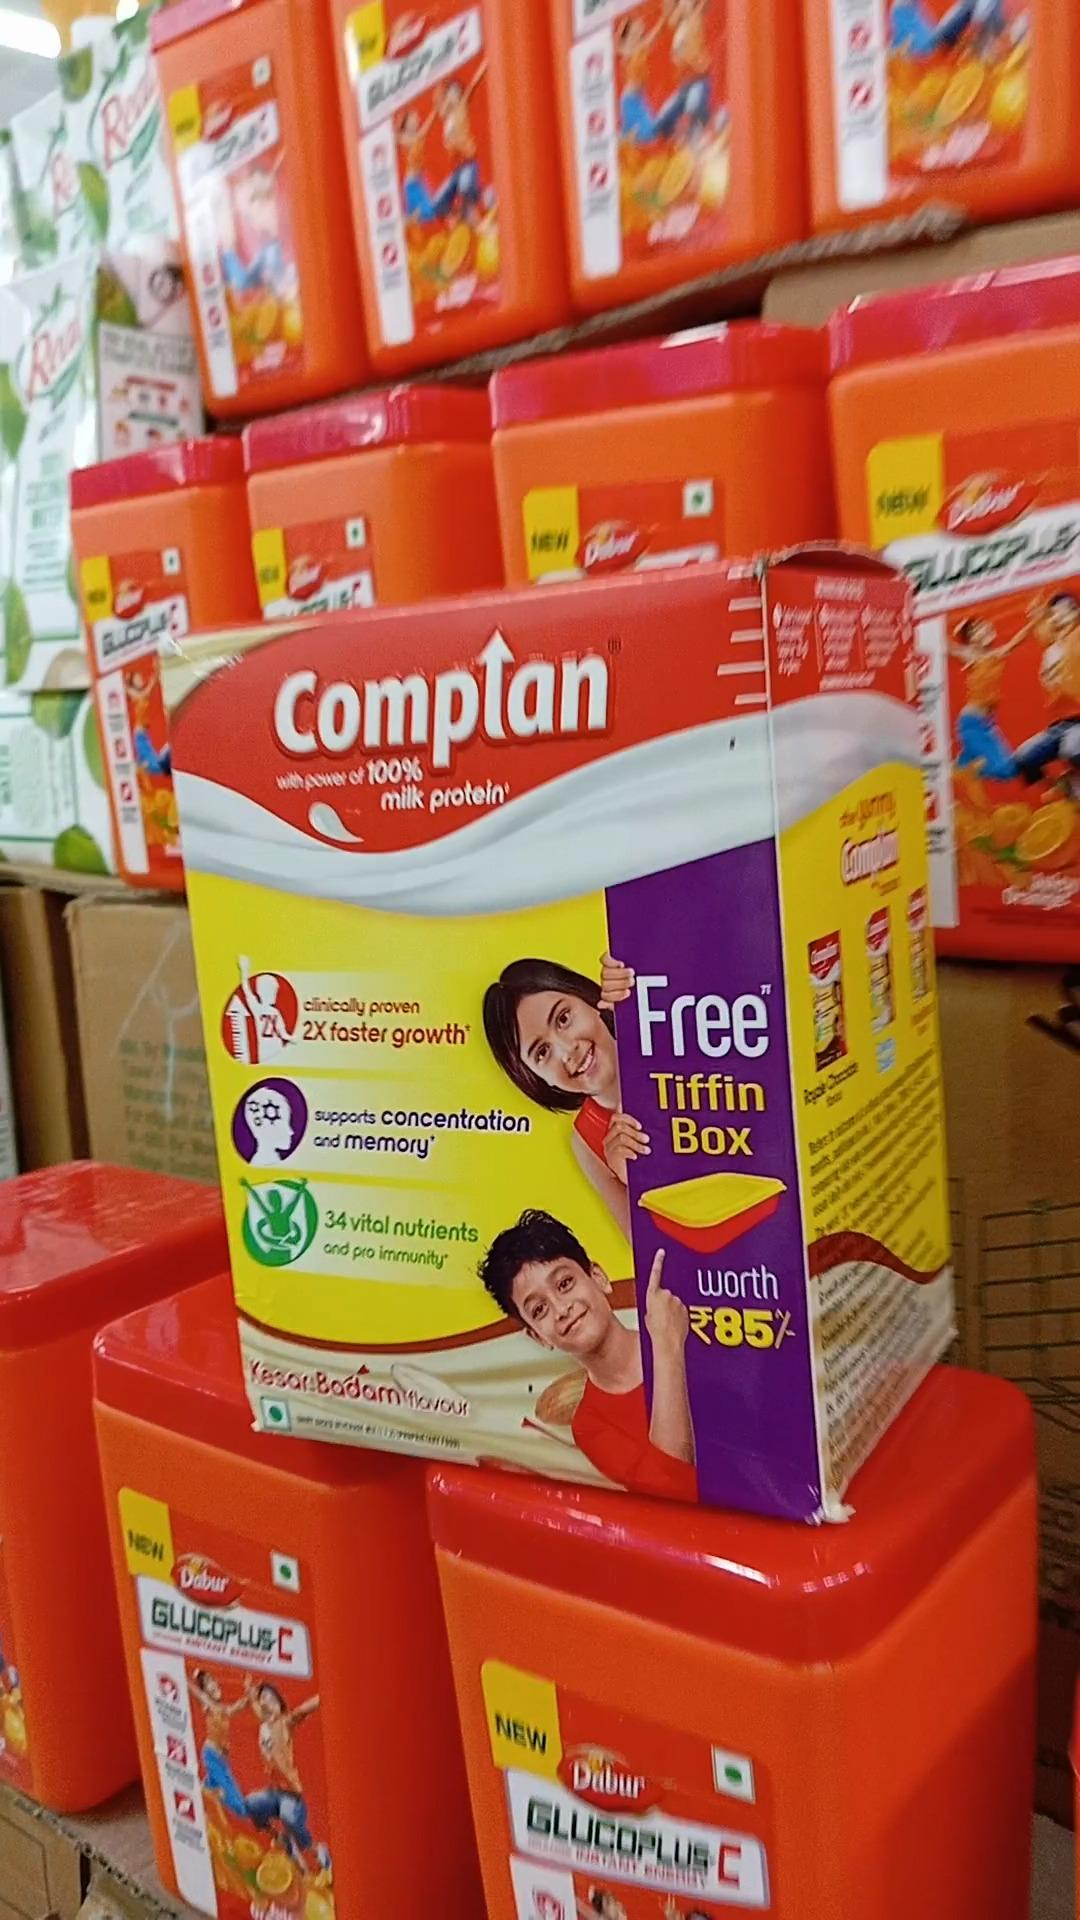COMPLAN_KESAR_BADAM_500_GMS_PACK: (186, 550, 812, 1516)
